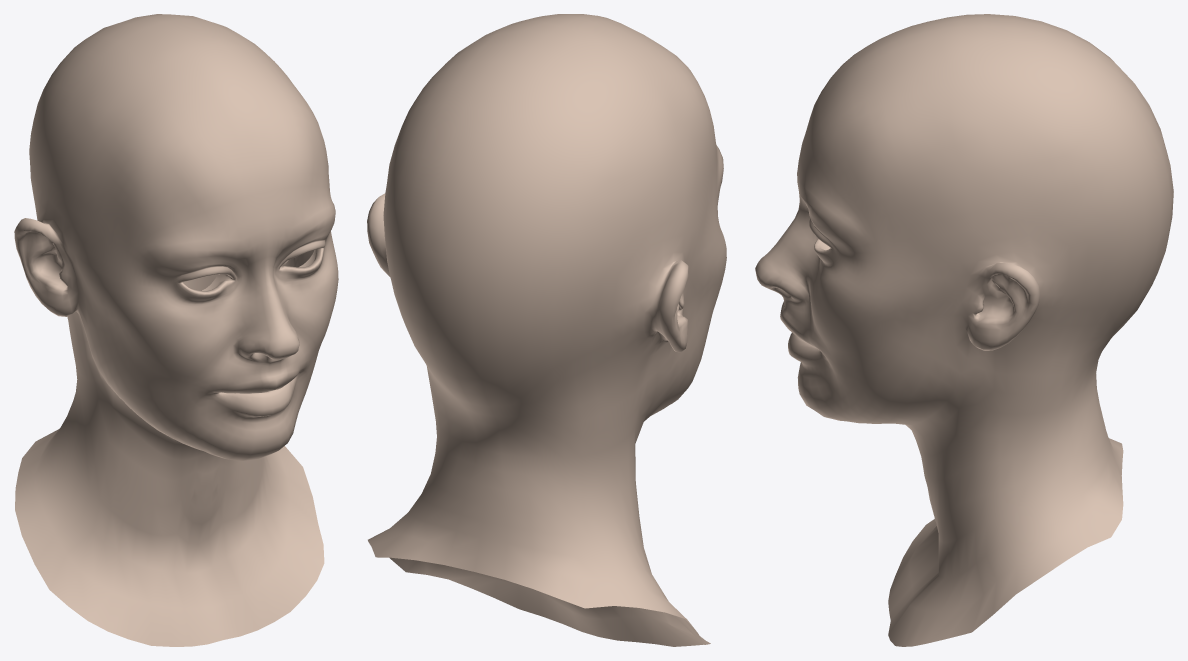
File: POLYWINK_BOD_157_SAMPLE.fbx
3 views of the same model, side by side, from view 1: azimuth 30°, elevation 25°; view 2: azimuth 150°, elevation 25°; view 3: azimuth 270°, elevation 25° (orthographic). The views are drawn at different scales.
Parts seen in each view (by area): view 1: POLYWINK_Louise; view 2: POLYWINK_Louise; view 3: POLYWINK_Louise.
Part boxes in pixels (box(x1,y1,x2,y2)): POLYWINK_Louise: box(14, 14, 338, 646); POLYWINK_Louise: box(367, 14, 726, 646); POLYWINK_Louise: box(755, 14, 1173, 646).
Bounding box in the file's own units: 18.81 × 36.75 × 23.46.
